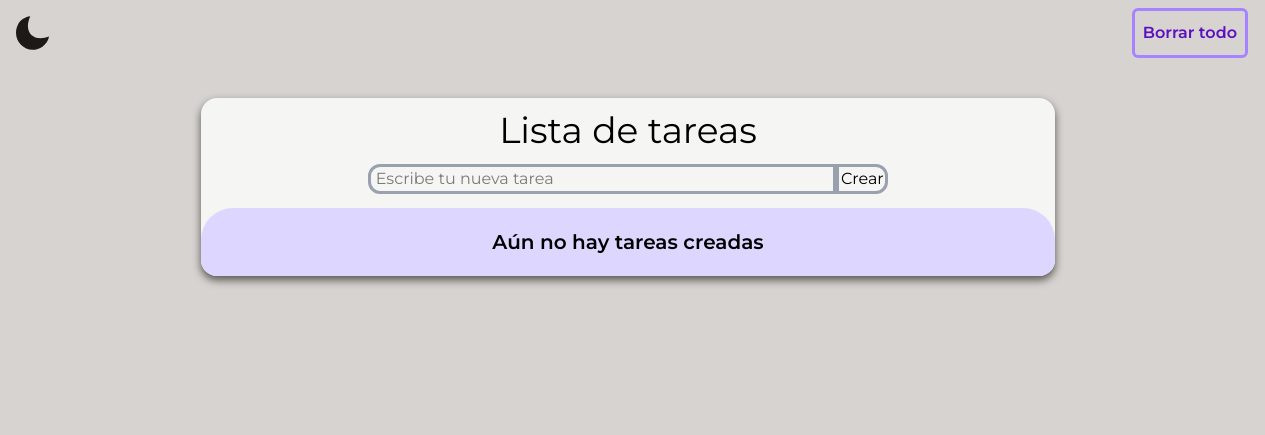
Test: <App /> › Delete all is working
In the field with placeholder "Escribe tu nueva tarea": (602, 179) [368,164,836,194], type "test1"
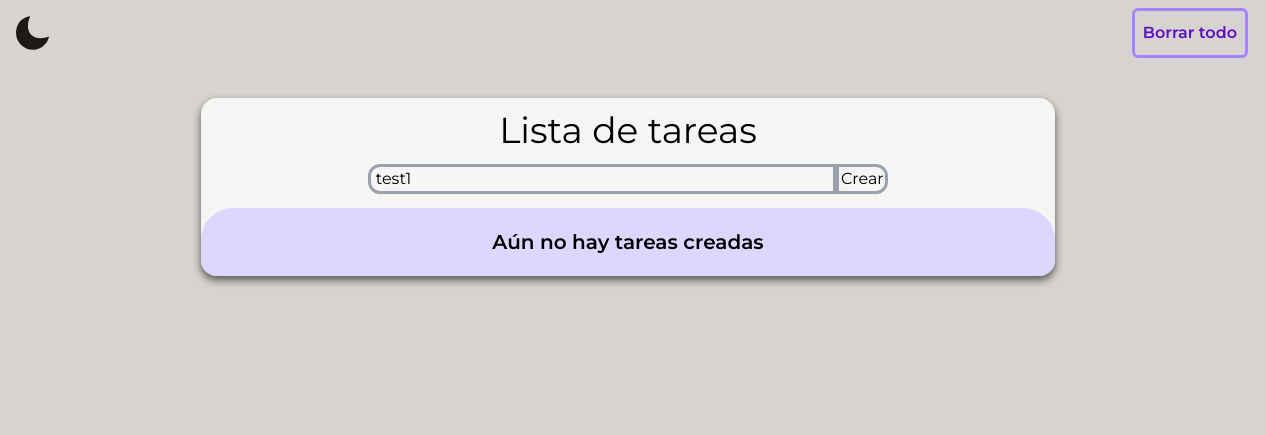
Click the button "Crear": (862, 179) [836,164,888,194]
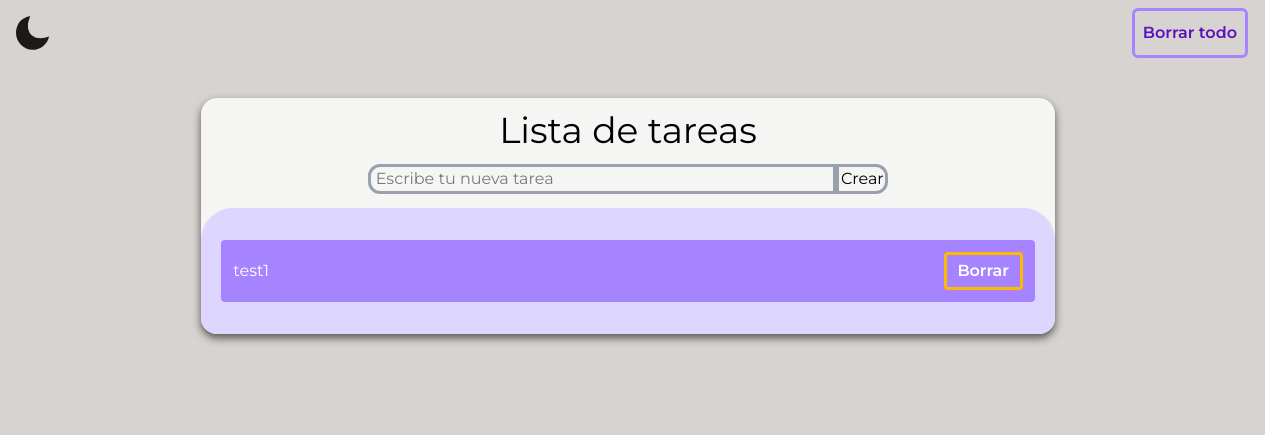
In the field with placeholder "Escribe tu nueva tarea": (602, 179) [368,164,836,194], type "test2"
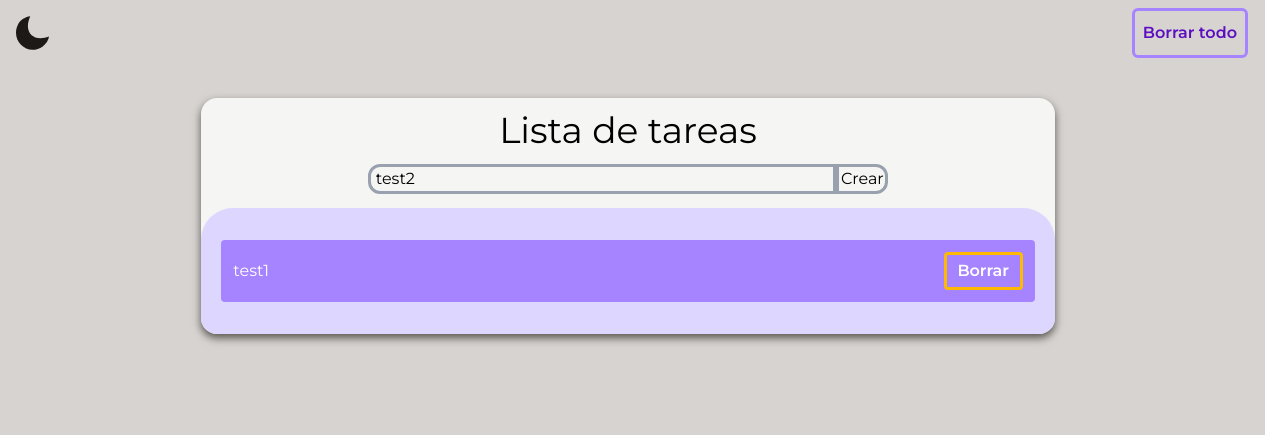
Click the button "Crear": (862, 179) [836,164,888,194]
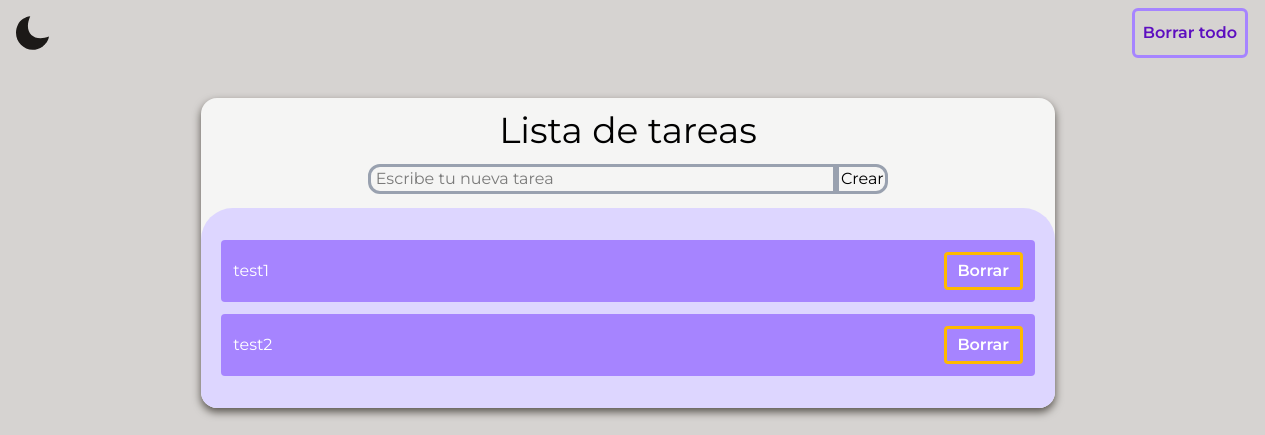
Expected: the text "Aún no hay tareas creadas" is not shown
Click the button "Borrar todo": (1190, 33) [1132,8,1248,58]
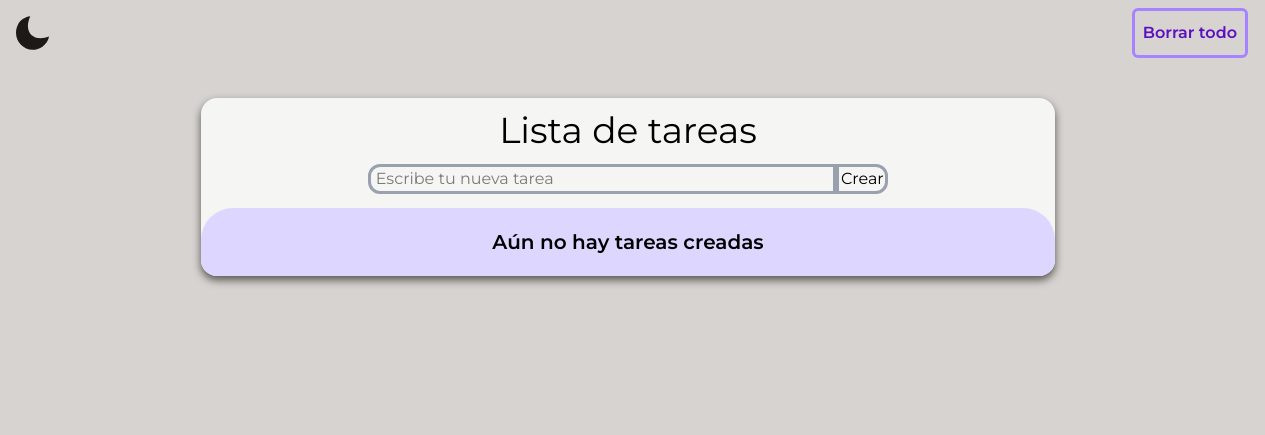
Now the text "Aún no hay tareas creadas" is shown, box [492,230,764,254]
